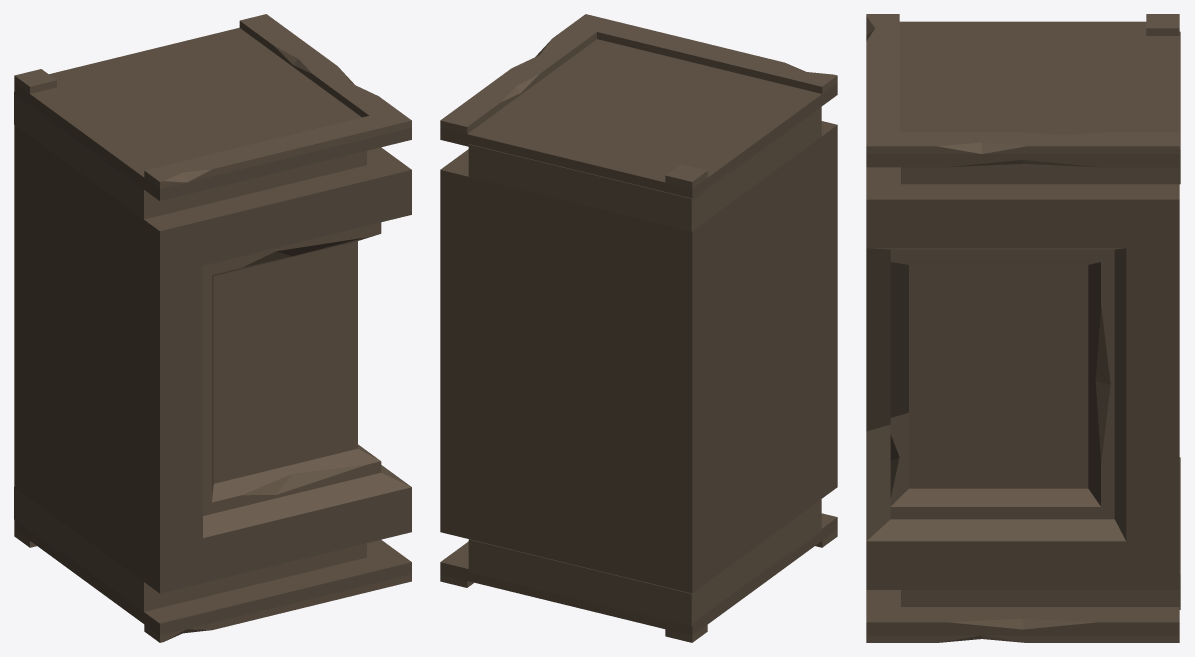
Rendered from SFHW_Reception_Roof_Shelving_003.fbx.
3 views of the same model, side by side, from view 1: azimuth 30°, elevation 25°; view 2: azimuth 150°, elevation 25°; view 3: azimuth 270°, elevation 25° (orthographic). The views are drawn at different scales.
Visible parts, largest first — view 1: SFHW_Reception_Roof_Shelving_003; view 2: SFHW_Reception_Roof_Shelving_003; view 3: SFHW_Reception_Roof_Shelving_003.
Boxes of the visible parts, x1=… form: SFHW_Reception_Roof_Shelving_003: x1=14, y1=14, x2=411, y2=642; SFHW_Reception_Roof_Shelving_003: x1=440, y1=14, x2=837, y2=642; SFHW_Reception_Roof_Shelving_003: x1=866, y1=14, x2=1180, y2=642.
Bounding box in the file's own units: 60 × 105 × 60.18.
